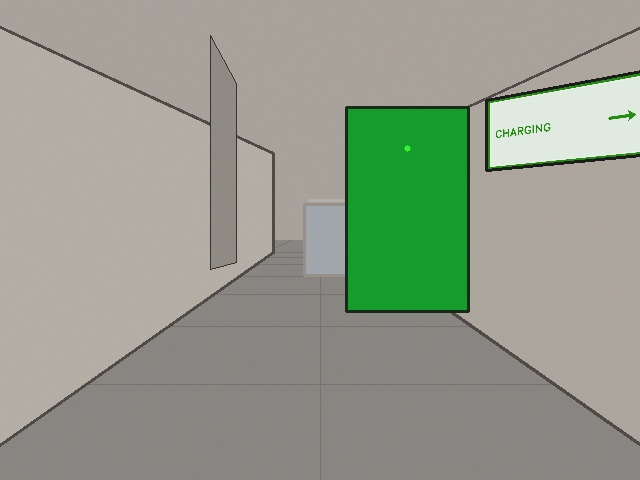charging_station: (346, 107, 468, 311)
directional_sign: (486, 69, 639, 170)
hospital_bed: (304, 204, 405, 275)
